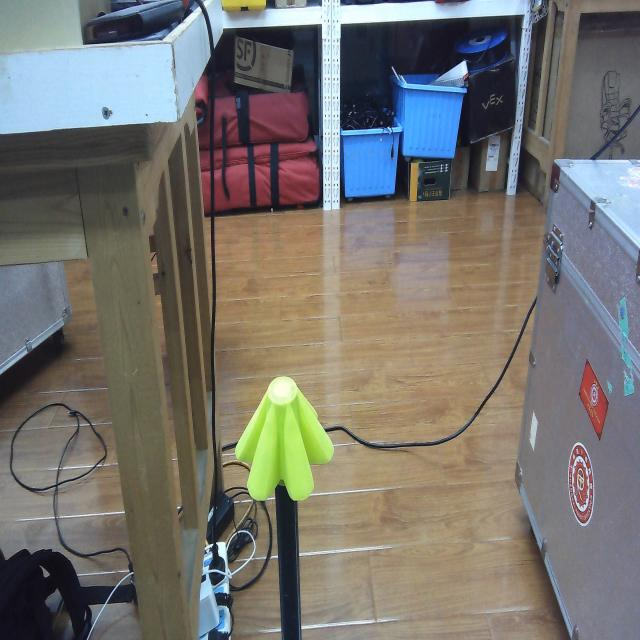Mobile-Goal: (220, 1, 267, 12)
Yellow-Stake-Head: (234, 376, 334, 501)
